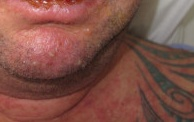SJS-TEN: (13, 22, 98, 77), (22, 0, 90, 14)
